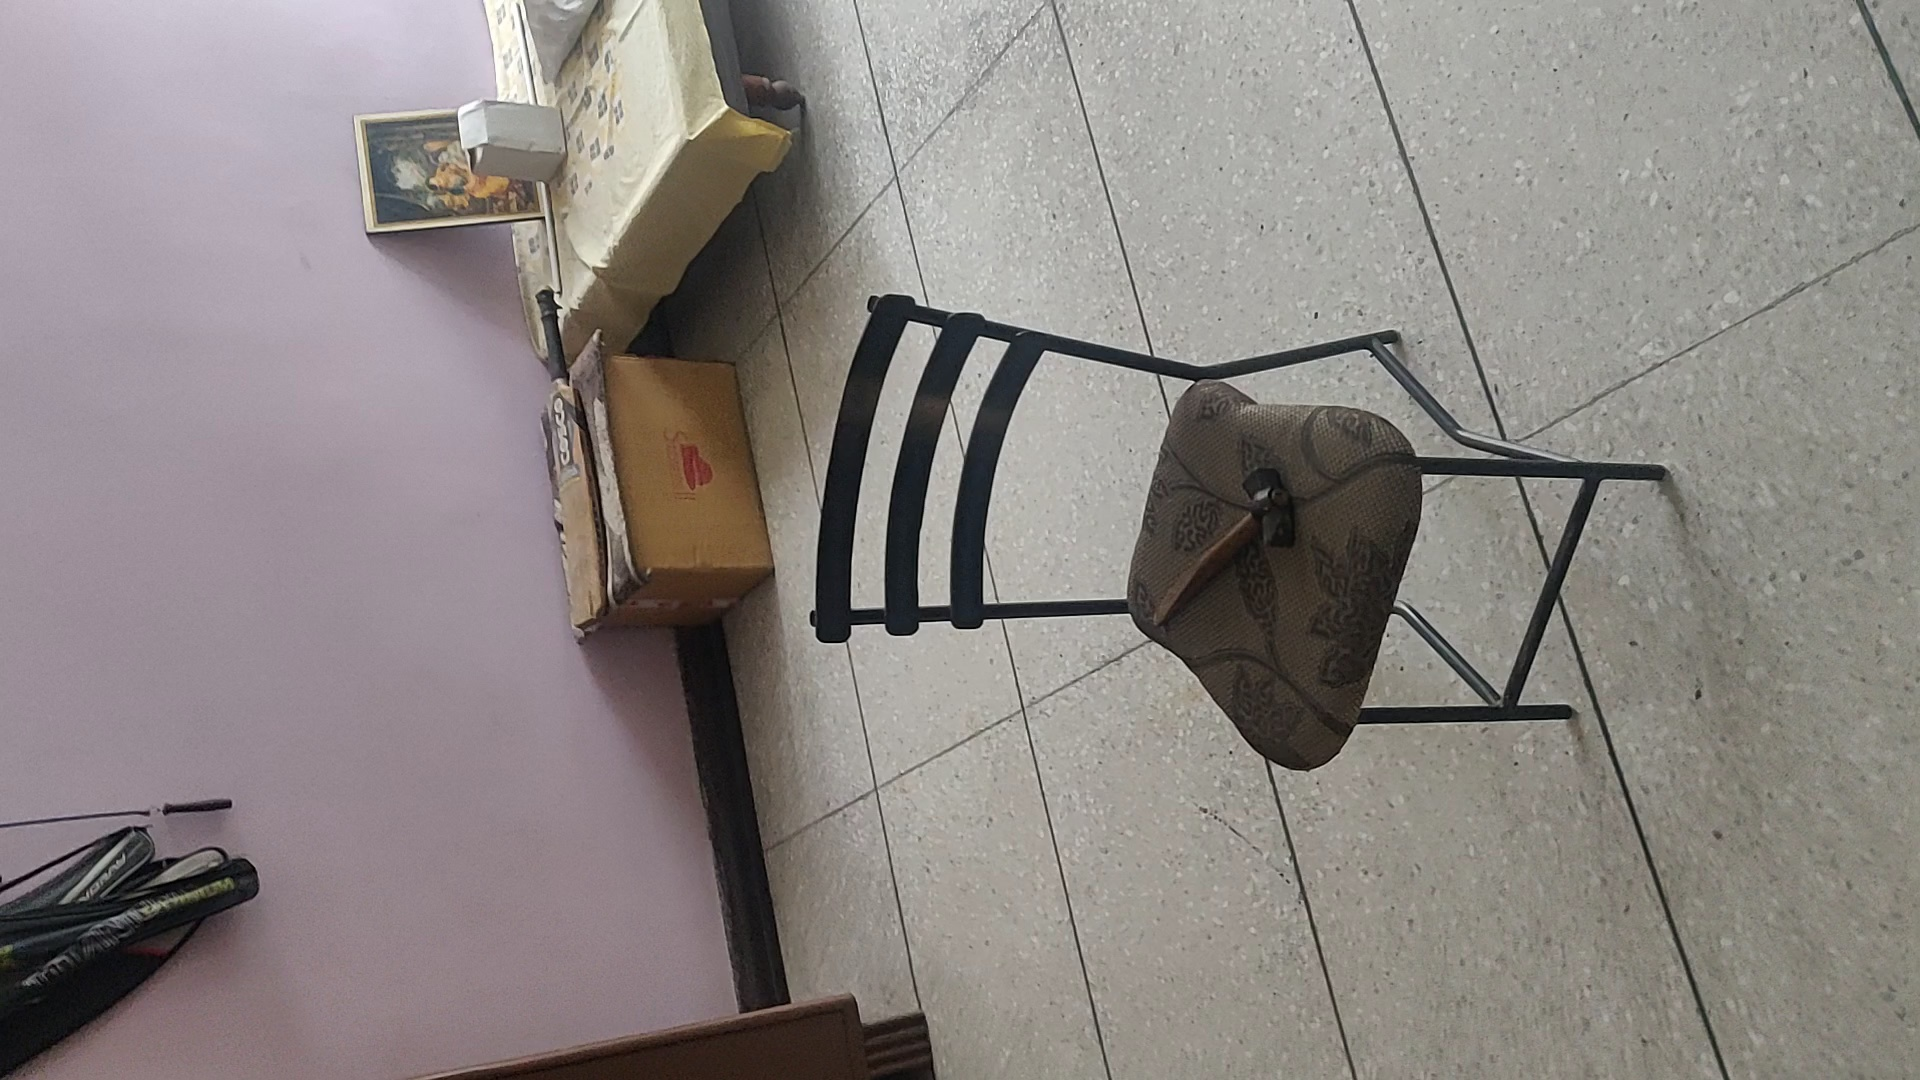hammer: (1145, 465, 1300, 630)
